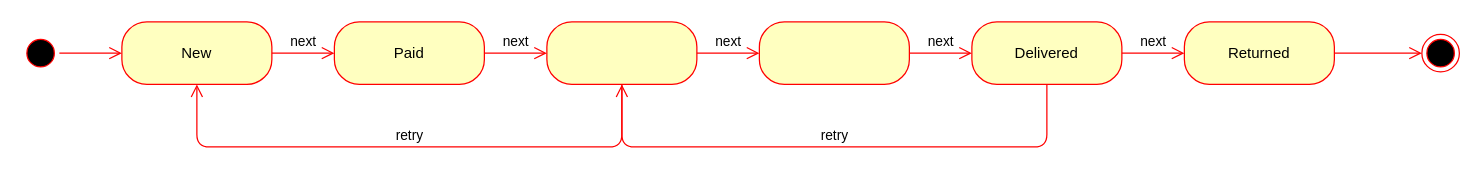
This 1481x181 diagram has some shape labels left out. The box of each missing label's shape, as (x1, y1, x2, y2) in pixels:
Packed: (546, 21, 697, 84)
Shipped: (758, 21, 909, 84)
